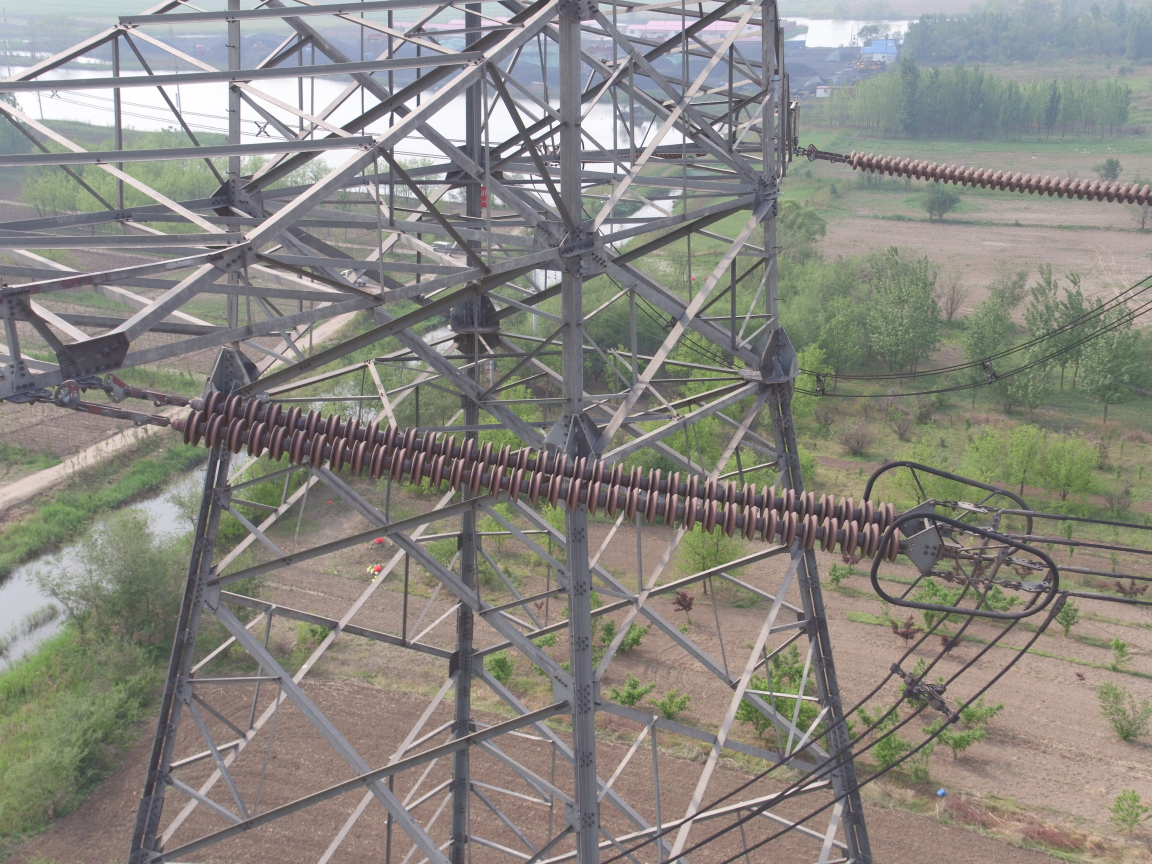insulator: (123, 385, 920, 564), (843, 146, 1152, 214)
